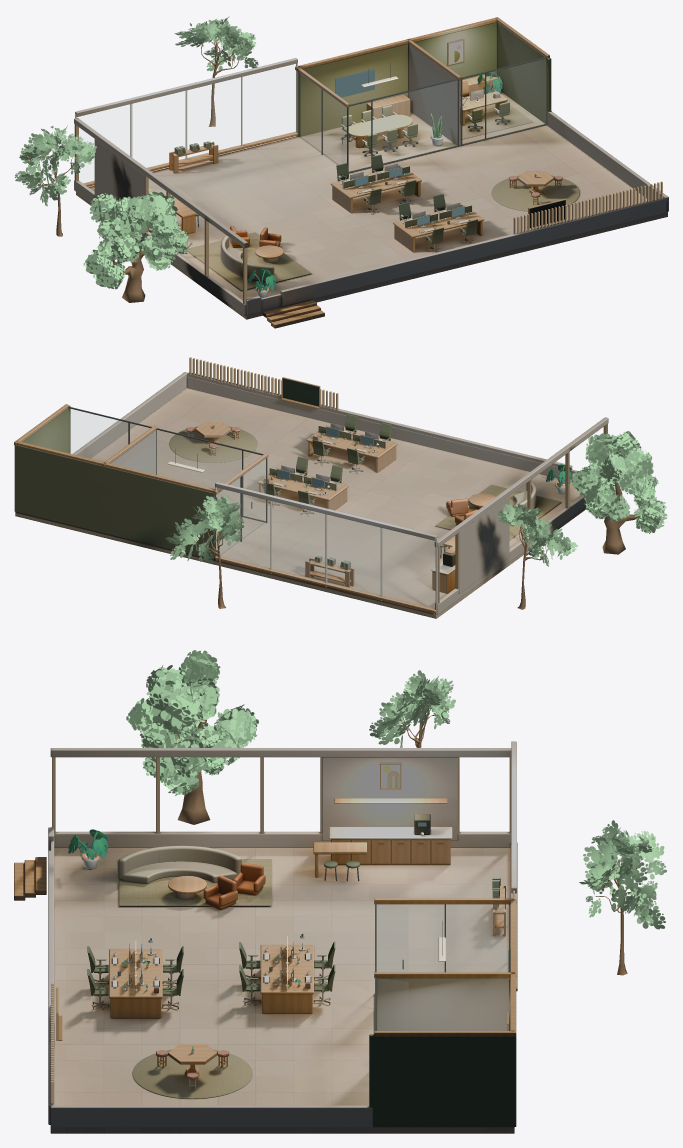
The model's file is office-baked.glb.
3 renders of one model, top to bottom at view 1: azimuth 30°, elevation 25°; view 2: azimuth 150°, elevation 25°; view 3: azimuth 270°, elevation 25°, orthographic. The views are drawn at different scales.
Parts seen in each view (by area): view 1: Architecture / ivory floor, Window continuous glass, Erce exterior broad 1, Front low wall main, Meeting room glazing, Meeting interior color panel, Manager office glazing, Erce exterior slender 1, Architecture / manager side wall, Architecture / room divider, Meeting floor tone, Meeting left glass (+22 smaller); view 2: Architecture / ivory floor, Window continuous glass, Architecture / rear room wall, Erce exterior broad 1, Front cutaway base, Meeting room glazing, Erce exterior slender 3, Coffee backing wall, Erce exterior slender 1, Manager office glazing, Collaboration zone rug, Right cutaway perimeter (+17 smaller); view 3: Architecture / ivory floor, Architecture / manager side wall, Erce exterior broad 1, Coffee backing wall, Right cutaway perimeter, Architecture / room divider, Meeting left glass, Erce exterior slender 3, Left window sill wall, Left window head, Collaboration zone rug, Erce exterior slender 1 (+18 smaller).
Boxes of the visible parts, box(x1,y1,x2,y2) form: Architecture / ivory floor: box(76, 91, 667, 319); Window continuous glass: box(77, 64, 295, 183); Erce exterior broad 1: box(83, 191, 192, 302); Front low wall main: box(280, 197, 665, 306); Meeting room glazing: box(373, 81, 457, 162); Meeting interior color panel: box(300, 44, 407, 136); Manager office glazing: box(487, 59, 545, 137); Erce exterior slender 1: box(14, 125, 96, 236); Architecture / manager side wall: box(497, 22, 551, 124); Architecture / room divider: box(408, 44, 460, 145); Meeting floor tone: box(299, 112, 455, 171); Meeting left glass: box(298, 73, 346, 164); Architecture / ivory floor: box(15, 388, 586, 618); Window continuous glass: box(217, 488, 434, 608); Architecture / rear room wall: box(14, 445, 215, 560); Erce exterior broad 1: box(570, 431, 667, 554); Front cutaway base: box(186, 376, 577, 481); Meeting room glazing: box(157, 430, 241, 488); Erce exterior slender 3: box(165, 494, 244, 608); Coffee backing wall: box(459, 496, 508, 593); Erce exterior slender 1: box(498, 503, 577, 609); Manager office glazing: box(69, 409, 127, 461); Collaboration zone rug: box(169, 426, 257, 462); Right cutaway perimeter: box(72, 372, 187, 458); Architecture / ivory floor: box(50, 848, 514, 1133); Architecture / manager side wall: box(369, 1034, 514, 1127); Erce exterior broad 1: box(126, 650, 258, 824); Coffee backing wall: box(322, 757, 457, 840); Right cutaway perimeter: box(50, 1105, 372, 1127); Architecture / room divider: box(376, 978, 510, 1030); Meeting left glass: box(397, 905, 508, 971); Erce exterior slender 3: box(579, 820, 666, 975); Left window sill wall: box(54, 831, 511, 847); Left window head: box(50, 748, 511, 757); Collaboration zone rug: box(132, 1049, 252, 1098); Erce exterior slender 1: box(369, 670, 455, 747).
Bounding box in the file's own units: 26.64 × 5.32 × 20.75.
145 materials, 129 textured.
